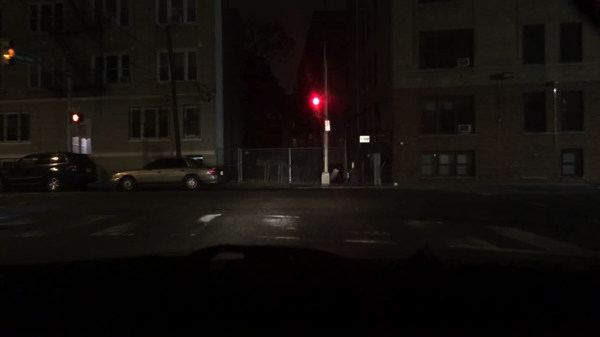car: (111, 157, 226, 191), (0, 153, 98, 192)
traffic light: (0, 37, 17, 66), (71, 112, 83, 123), (313, 92, 320, 108)
traffic sign: (12, 50, 36, 65), (359, 135, 370, 143), (324, 120, 331, 132)
